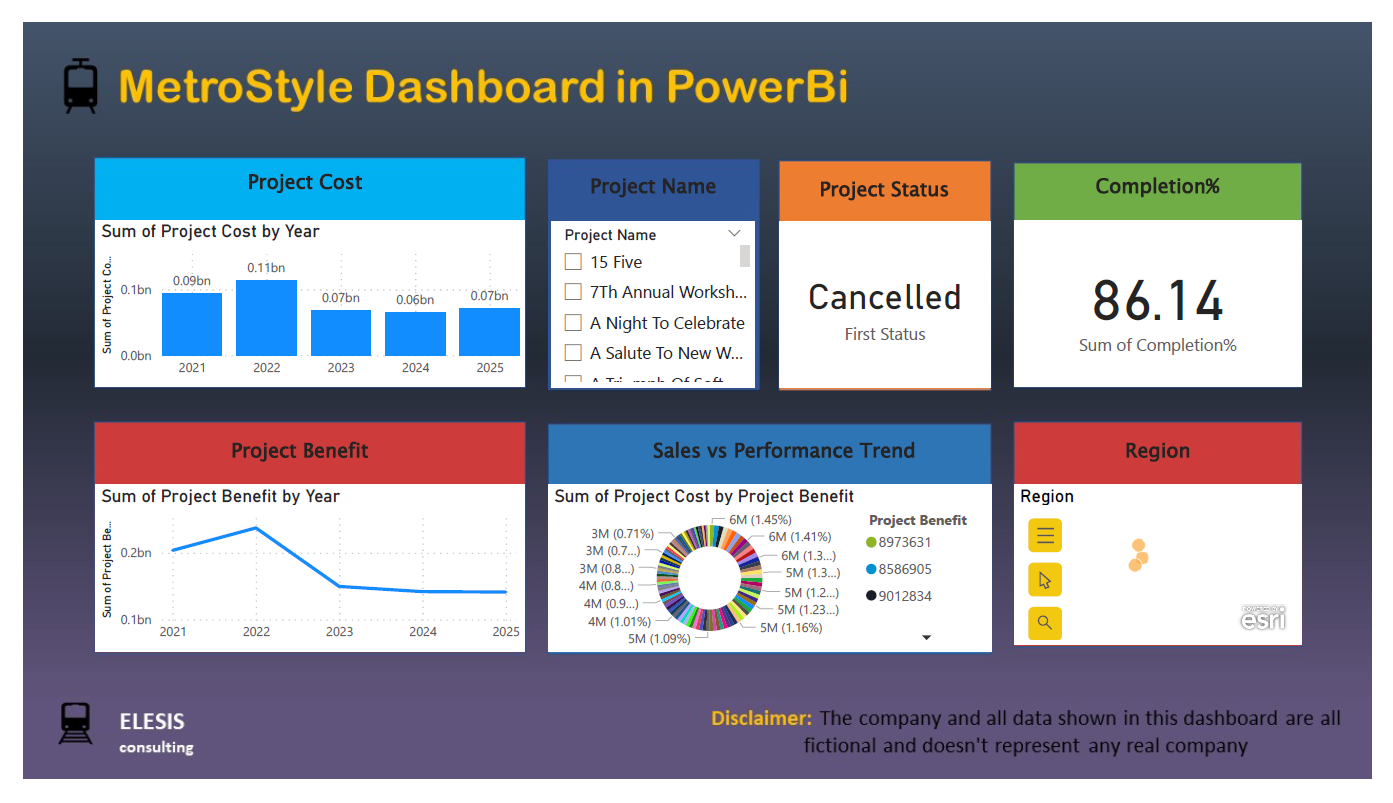

The dashboard page shown, as its layout file describes it:
{"tool":"powerbi","page":{"name":"Sales data Analysis","canvas":[1280,720],"ordinal":0},"visuals":[{"type":"textbox","box":[208.3,133.3,128.5,45.2],"z":0},{"type":"textbox","box":[509,137,178,46],"z":1000},{"type":"textbox","box":[746,140,143,43],"z":2000},{"type":"textbox","box":[188,388,148.8,39.3],"z":3000},{"type":"textbox","box":[587.9,388,269,39.3],"z":4000},{"type":"textbox","box":[1006.8,136.9,139.2,46.4],"z":5000},{"type":"textbox","box":[1036.6,388,80.9,39.3],"z":6000},{"type":"esriVisual","fields":{"Location":["Project Management Dataset.Region"]},"box":[941.3,439.1,271.7,152.3],"z":7000},{"type":"lineChart","fields":{"Category":["Project Management Dataset.Year"],"Y":["Sum(Project Management Dataset. Project Benefit )"]},"box":[68.6,439.1,407.5,157.8],"z":8000},{"type":"clusteredColumnChart","fields":{"Y":["Sum(Project Management Dataset. Project Cost )"],"Category":["Project Management Dataset.Year"]},"box":[68.6,188,407.5,157.8],"z":9000},{"type":"donutChart","fields":{"Category":["Project Management Dataset. Project Benefit "],"Y":["Sum(Project Management Dataset. Project Cost )"]},"box":[499.5,439.1,419.9,157.8],"z":10000},{"type":"card","fields":{"Values":["Sum(Project Management Dataset.Completion%)"]},"box":[941.3,188,271.7,157.8],"z":11000},{"type":"card","fields":{"Values":["Min(Project Management Dataset.Status)"]},"box":[717.7,189.4,200.3,157.8],"z":12000},{"type":"slicer","fields":{"Values":["Project Management Dataset.Project Name"]},"box":[500.9,189.4,193.5,157.8],"z":13000}]}

Visuals, with their boxes in screenshot pixels (x1, y1, x2, y2), scaled from the page's 1280x720 canvas onto the 1393x803 screenshot:
textbox: 227 149 367 199
textbox: 554 153 748 204
textbox: 812 156 967 204
textbox: 205 433 367 477
textbox: 640 433 933 477
textbox: 1096 153 1247 204
textbox: 1128 433 1216 477
esriVisual - Project Management Dataset.Region: 1024 490 1320 660
lineChart - Project Management Dataset.Year x Sum(Project Management Dataset. Project Benefit ): 75 490 518 666
clusteredColumnChart - Sum(Project Management Dataset. Project Cost ) x Project Management Dataset.Year: 75 210 518 386
donutChart - Project Management Dataset. Project Benefit  x Sum(Project Management Dataset. Project Cost ): 544 490 1001 666
card - Sum(Project Management Dataset.Completion%): 1024 210 1320 386
card - Min(Project Management Dataset.Status): 781 211 999 387
slicer - Project Management Dataset.Project Name: 545 211 756 387
